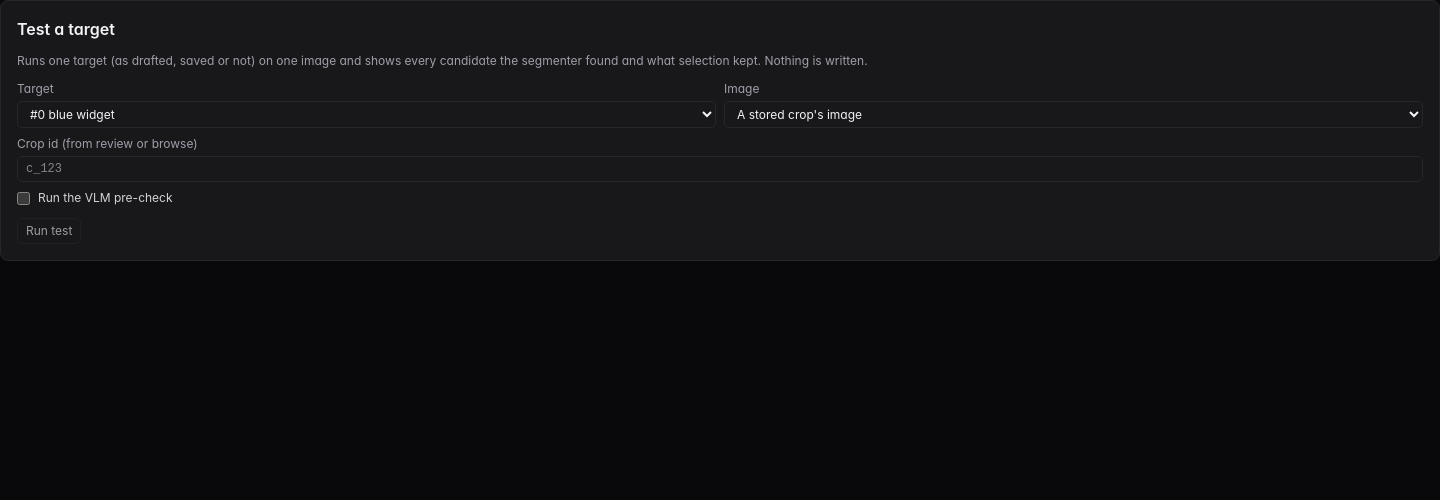
OpenVocabTestPanel › renders the served gate, hits and the dimmed dropped hit
Type "c1" into the field labelled "Crop id (from review or browse)" at point(720, 169), box [17,156,1423,182]
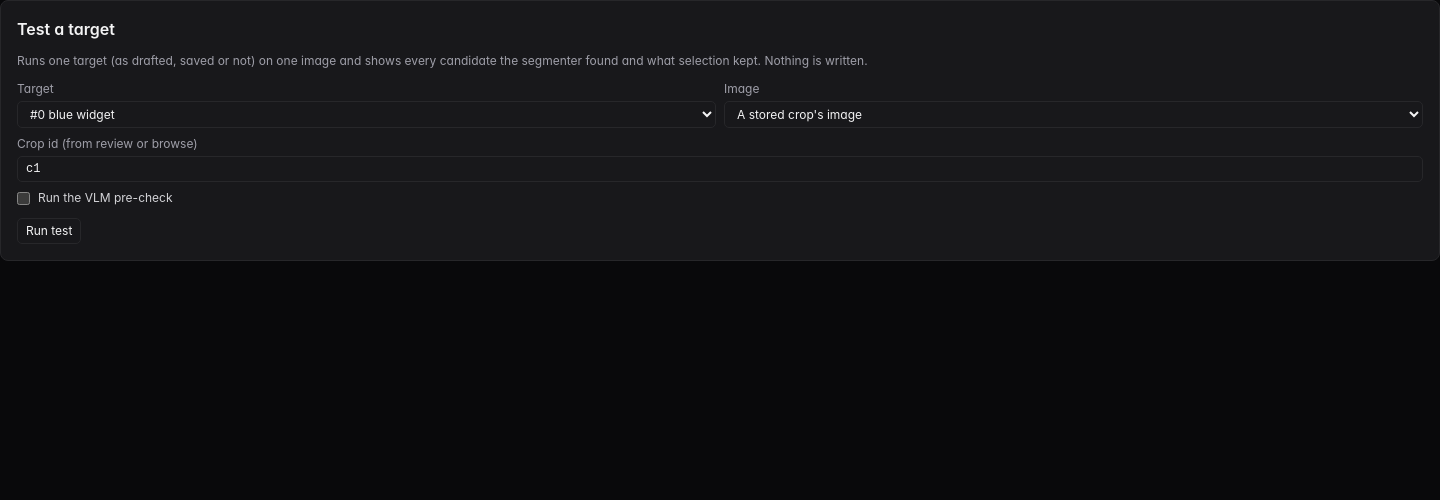
Click the button "Run test" at point(49, 231), box [17,218,81,244]
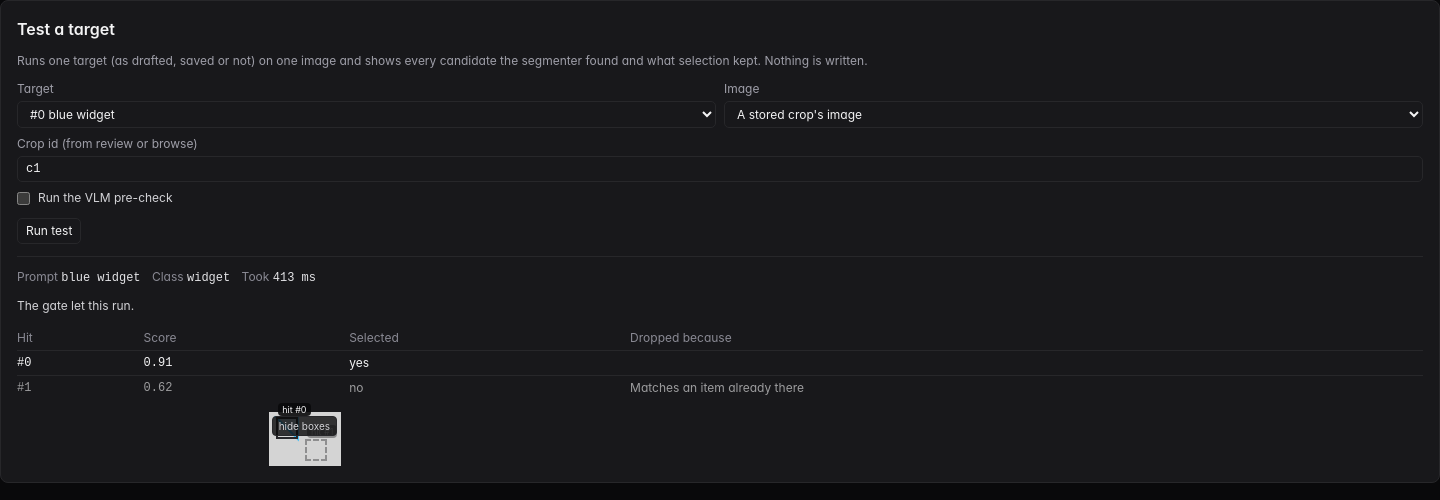
expect the text "widget" is shown: met, box [187,271,230,285]
expect the row with test id "ov-test-hit" shows "Matches an item already there": met, box [630,380,804,395]
expect the number of elements with test id "overlay-extra-box" is 2: met, box [276,417,298,439]; [305,439,327,461]
